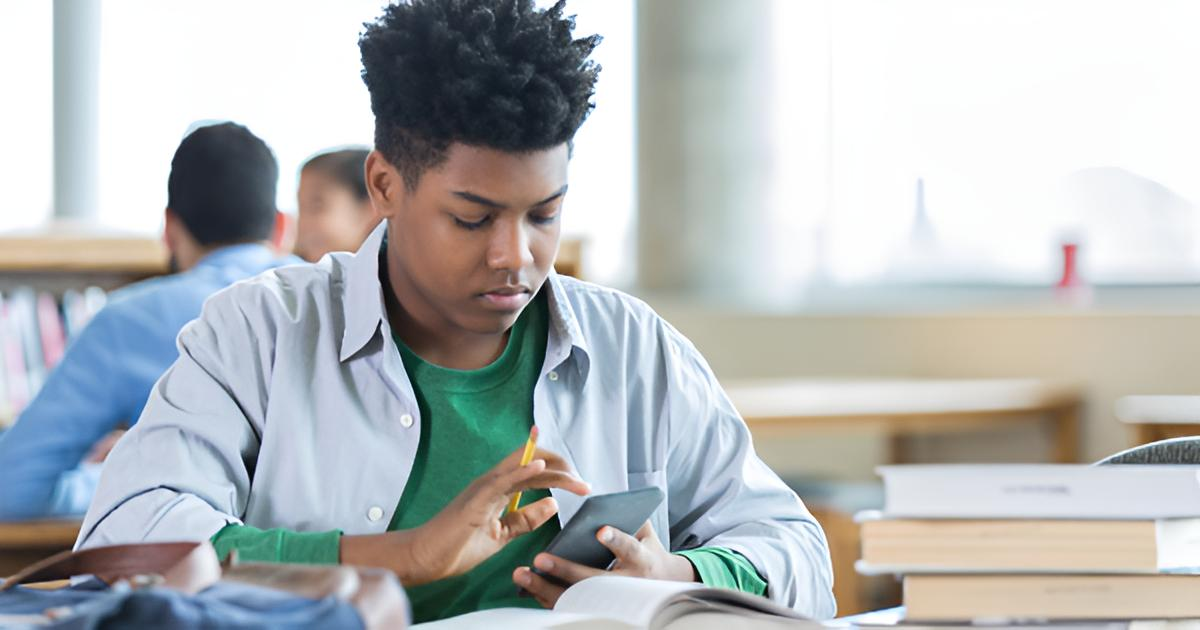phone: (78, 0, 835, 621)
